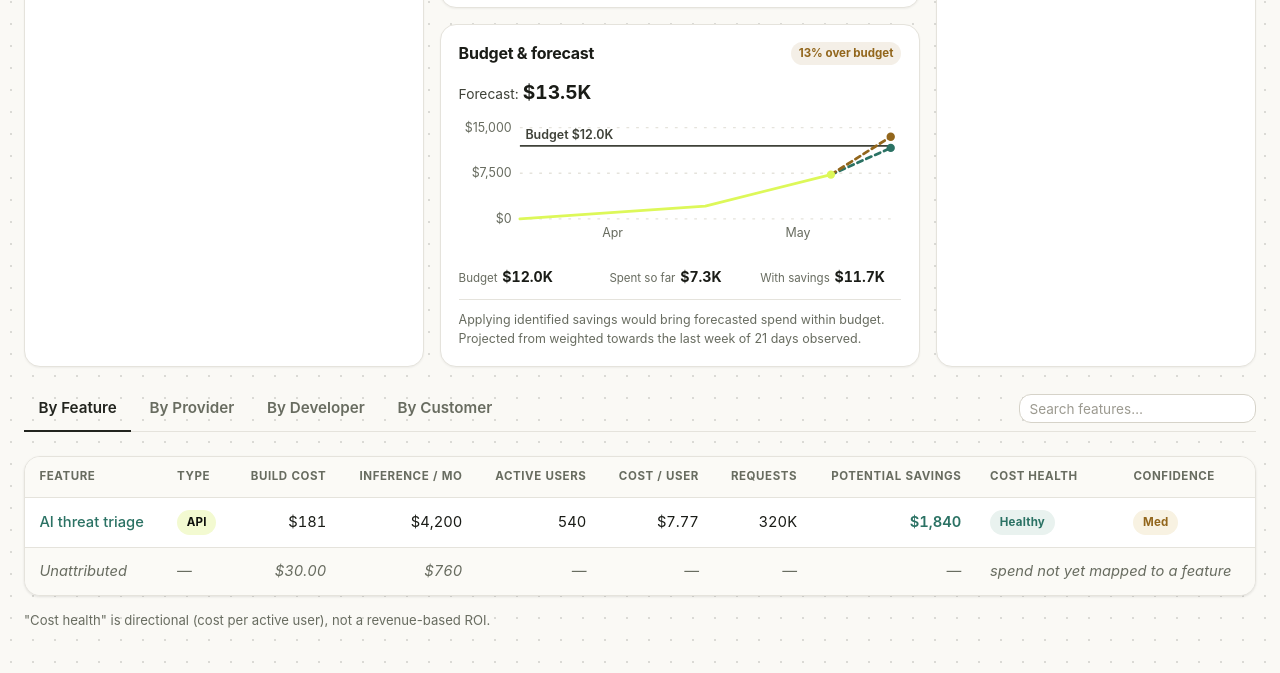
Test: Dashboard (Overview) › switches to the By provider tab and shows provider spend + trend
This screenshot has width=1280, height=673.
(page scrolled)
Step 1. Click the tab "By Provider" → (192, 409), box [135,387,249,432]
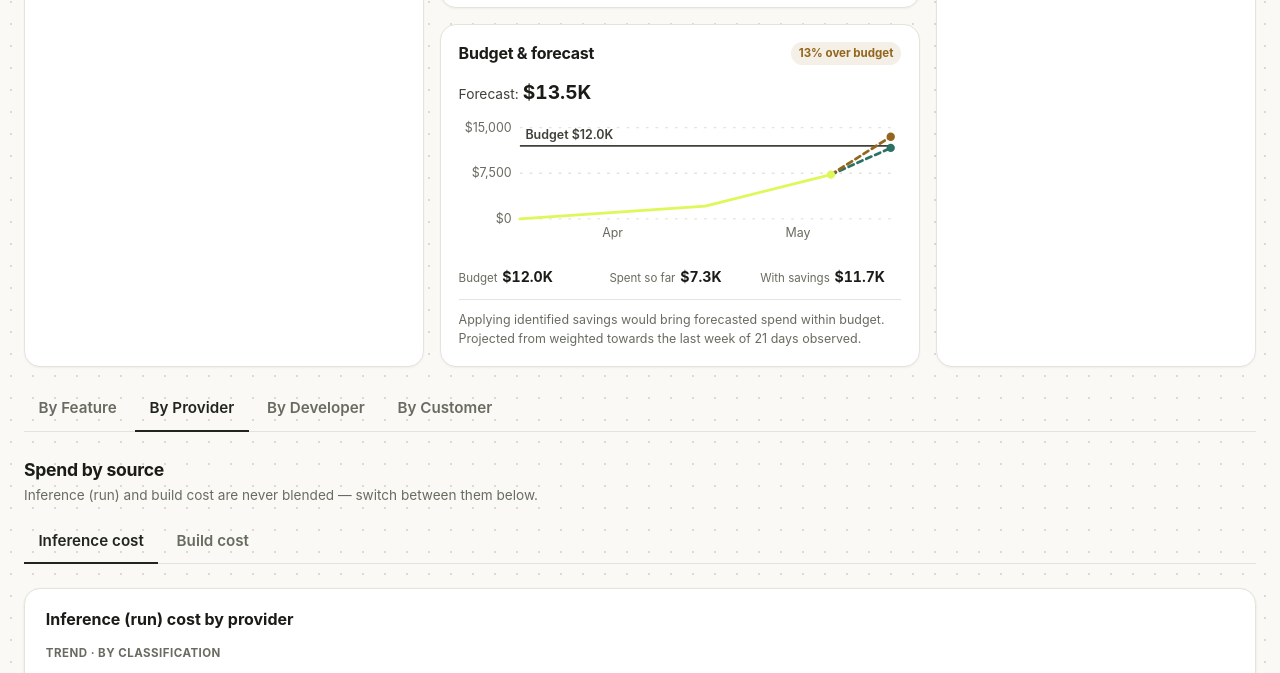
Check: the heading "Inference (run) cost by provider" is shown, box [46,609,294,629]
Check: the text "Trend · by classification" is shown, box [46,646,221,660]
Note: Switch to the Build cost sub-tab: build shows, inference-by-provider hides.
Step 2. Click the tab "Build cost" → (213, 542), box [162,520,263,564]
(page scrolled)
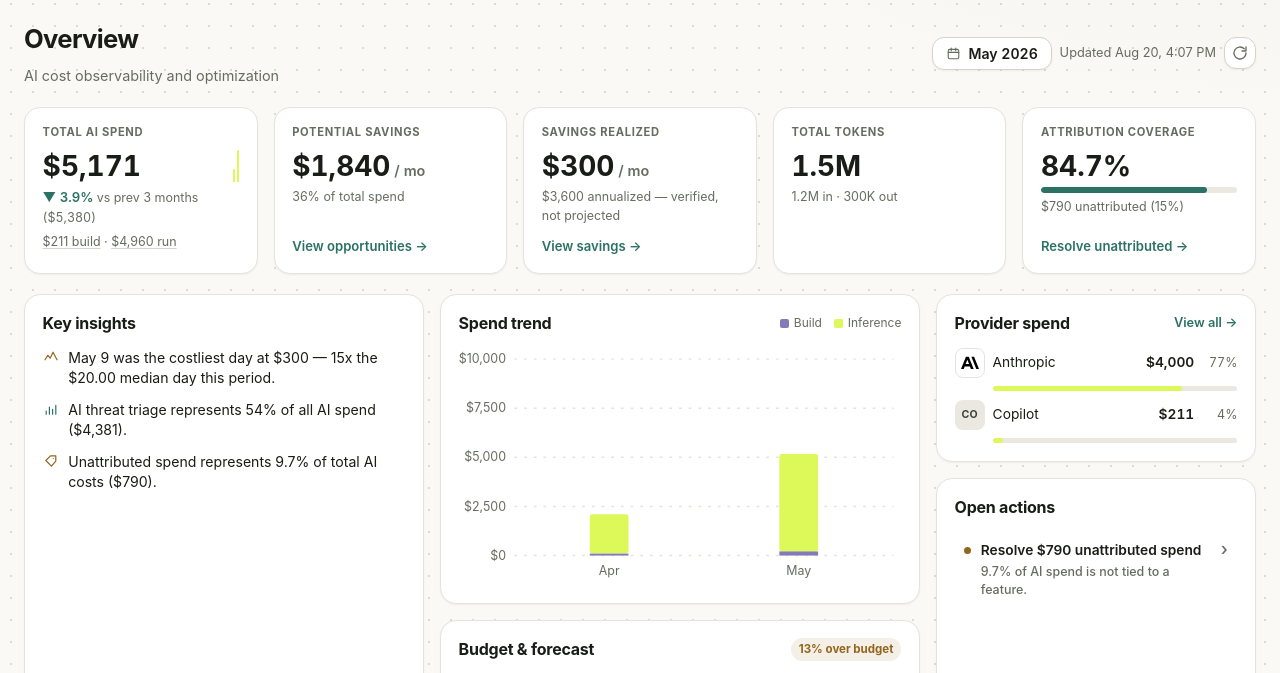
Check: the heading "Key insights" is shown, box [43,311,136,336]
Check: the heading "Inference (run) cost by provider" is gone
